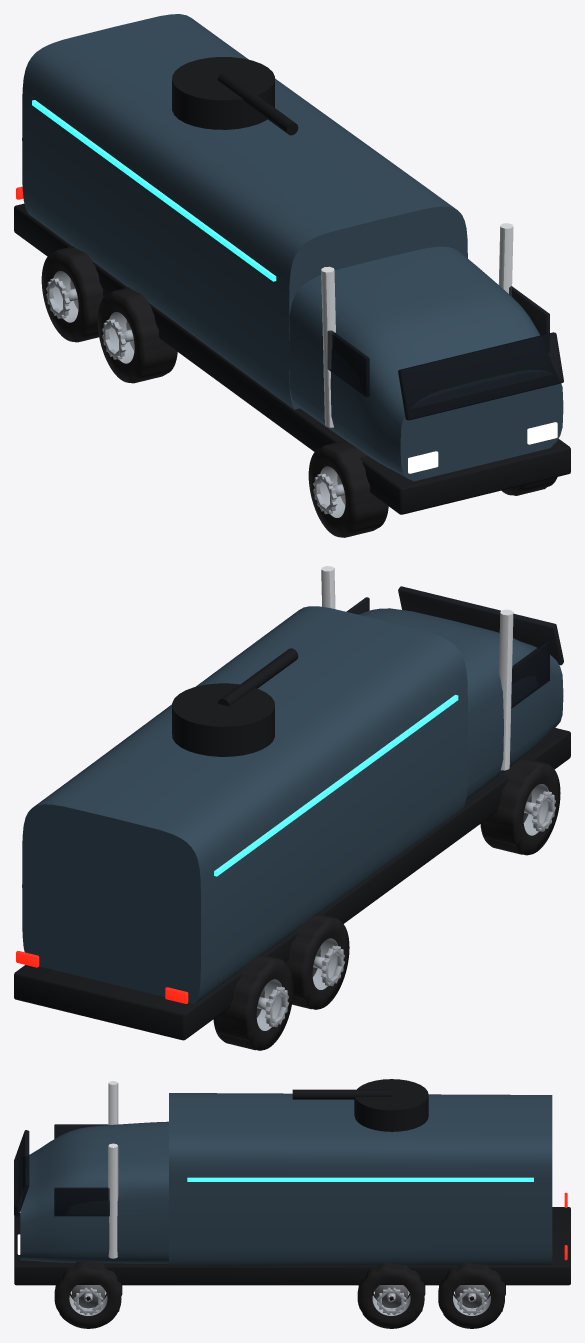
Rendered from tech-transport.glb.
3 views of the same model, one above another, from view 1: azimuth 30°, elevation 25°; view 2: azimuth 150°, elevation 25°; view 3: azimuth 270°, elevation 25° (orthographic). The views are drawn at different scales.
Parts seen in each view (by area): view 1: Body, WheelFL, WheelML, WheelRL; view 2: Body, WheelFL, WheelRL, WheelML; view 3: Body, WheelFR, WheelMR, WheelRR.
Part boxes in pixels (box(x1,y1,x2,y2)): Body: box(14, 14, 570, 514); WheelFL: box(308, 440, 388, 537); WheelML: box(97, 287, 177, 383); WheelRL: box(41, 246, 103, 342); Body: box(14, 566, 570, 1040); WheelFL: box(480, 758, 560, 855); WheelRL: box(213, 954, 293, 1050); WheelML: box(287, 914, 349, 1009); Body: box(14, 1079, 570, 1285); WheelFR: box(54, 1261, 122, 1328); WheelMR: box(357, 1262, 425, 1328); WheelRR: box(438, 1262, 505, 1328).
Bounding box in the file's own units: 2.99 × 3.63 × 9.
